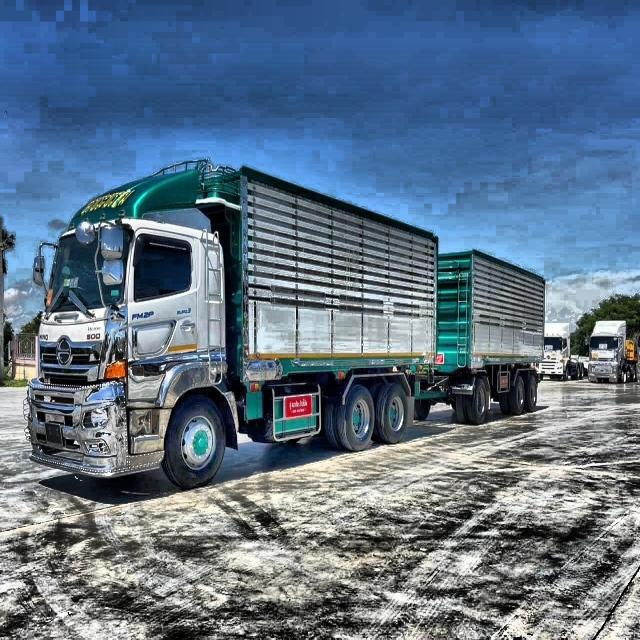trailer: (24, 155, 546, 492)
